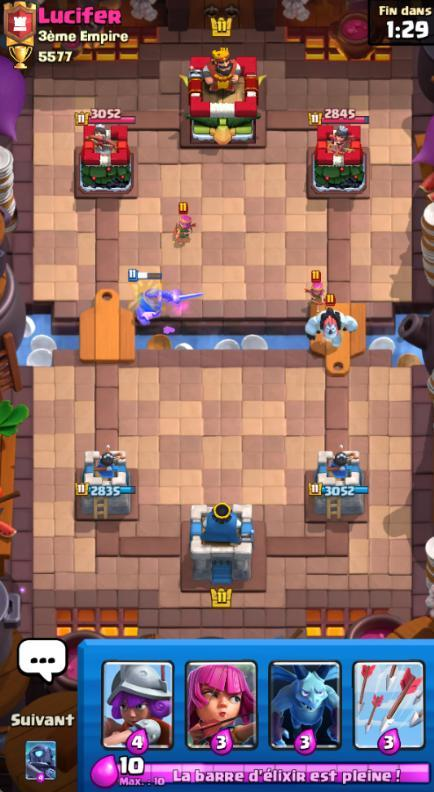enemy_archers: (168, 202, 199, 243), (301, 268, 328, 304)
enemy_ice_golem: (301, 300, 361, 351)
player_knight: (122, 269, 204, 334)
